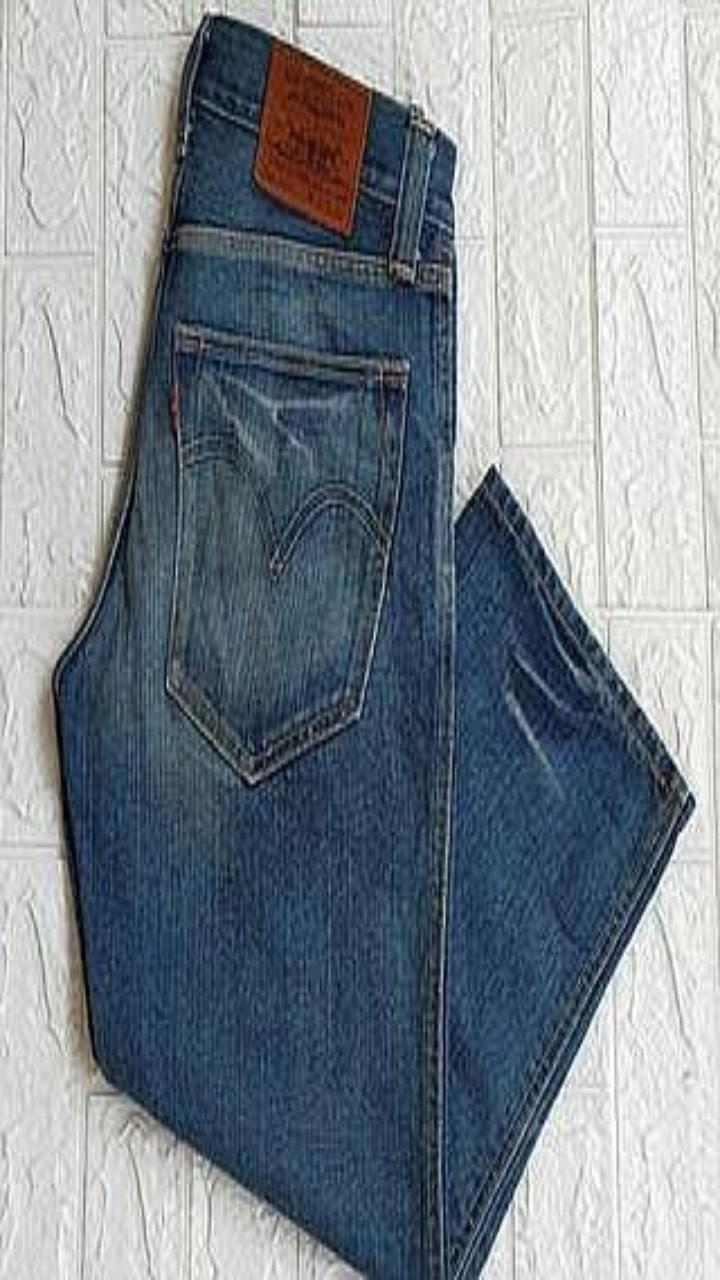Jeans: (53, 15, 693, 1279)
